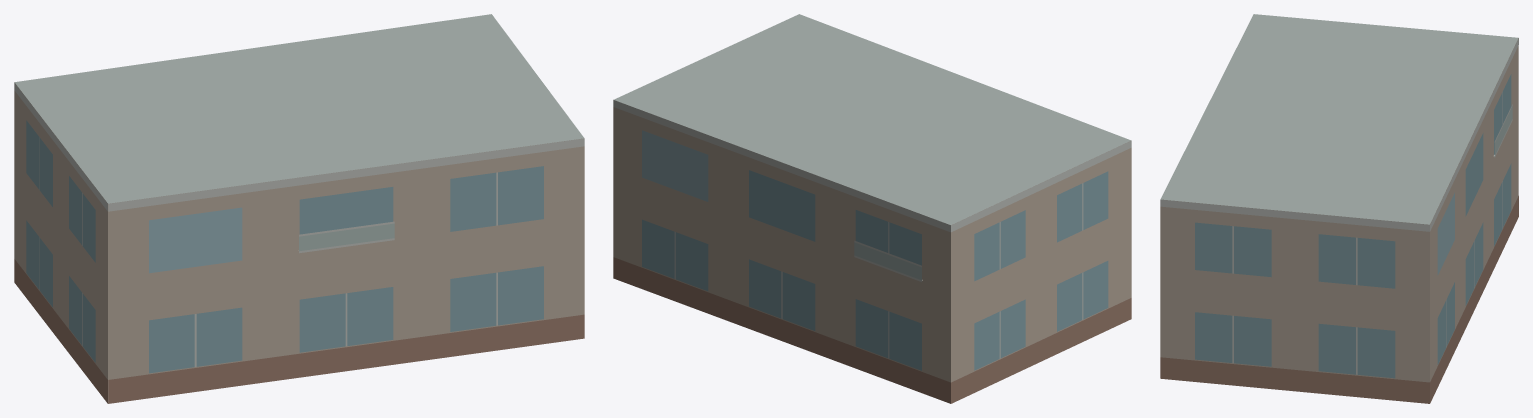
File: survey-upis-32675983.glb
3 views of the same model, side by side, from view 1: azimuth 30°, elevation 25°; view 2: azimuth 150°, elevation 25°; view 3: azimuth 270°, elevation 25° (orthographic). The views are drawn at different scales.
Parts seen in each view (by area): view 1: survey-upis-32675983.tmp; view 2: survey-upis-32675983.tmp; view 3: survey-upis-32675983.tmp.
Boxes of the visible parts, x1,y1,x2,y2 form: survey-upis-32675983.tmp: (14,14,584,403); survey-upis-32675983.tmp: (613,14,1131,403); survey-upis-32675983.tmp: (1160,14,1518,403).
Size of the model in its own units: 15.39 by 6.1 by 11.07.
